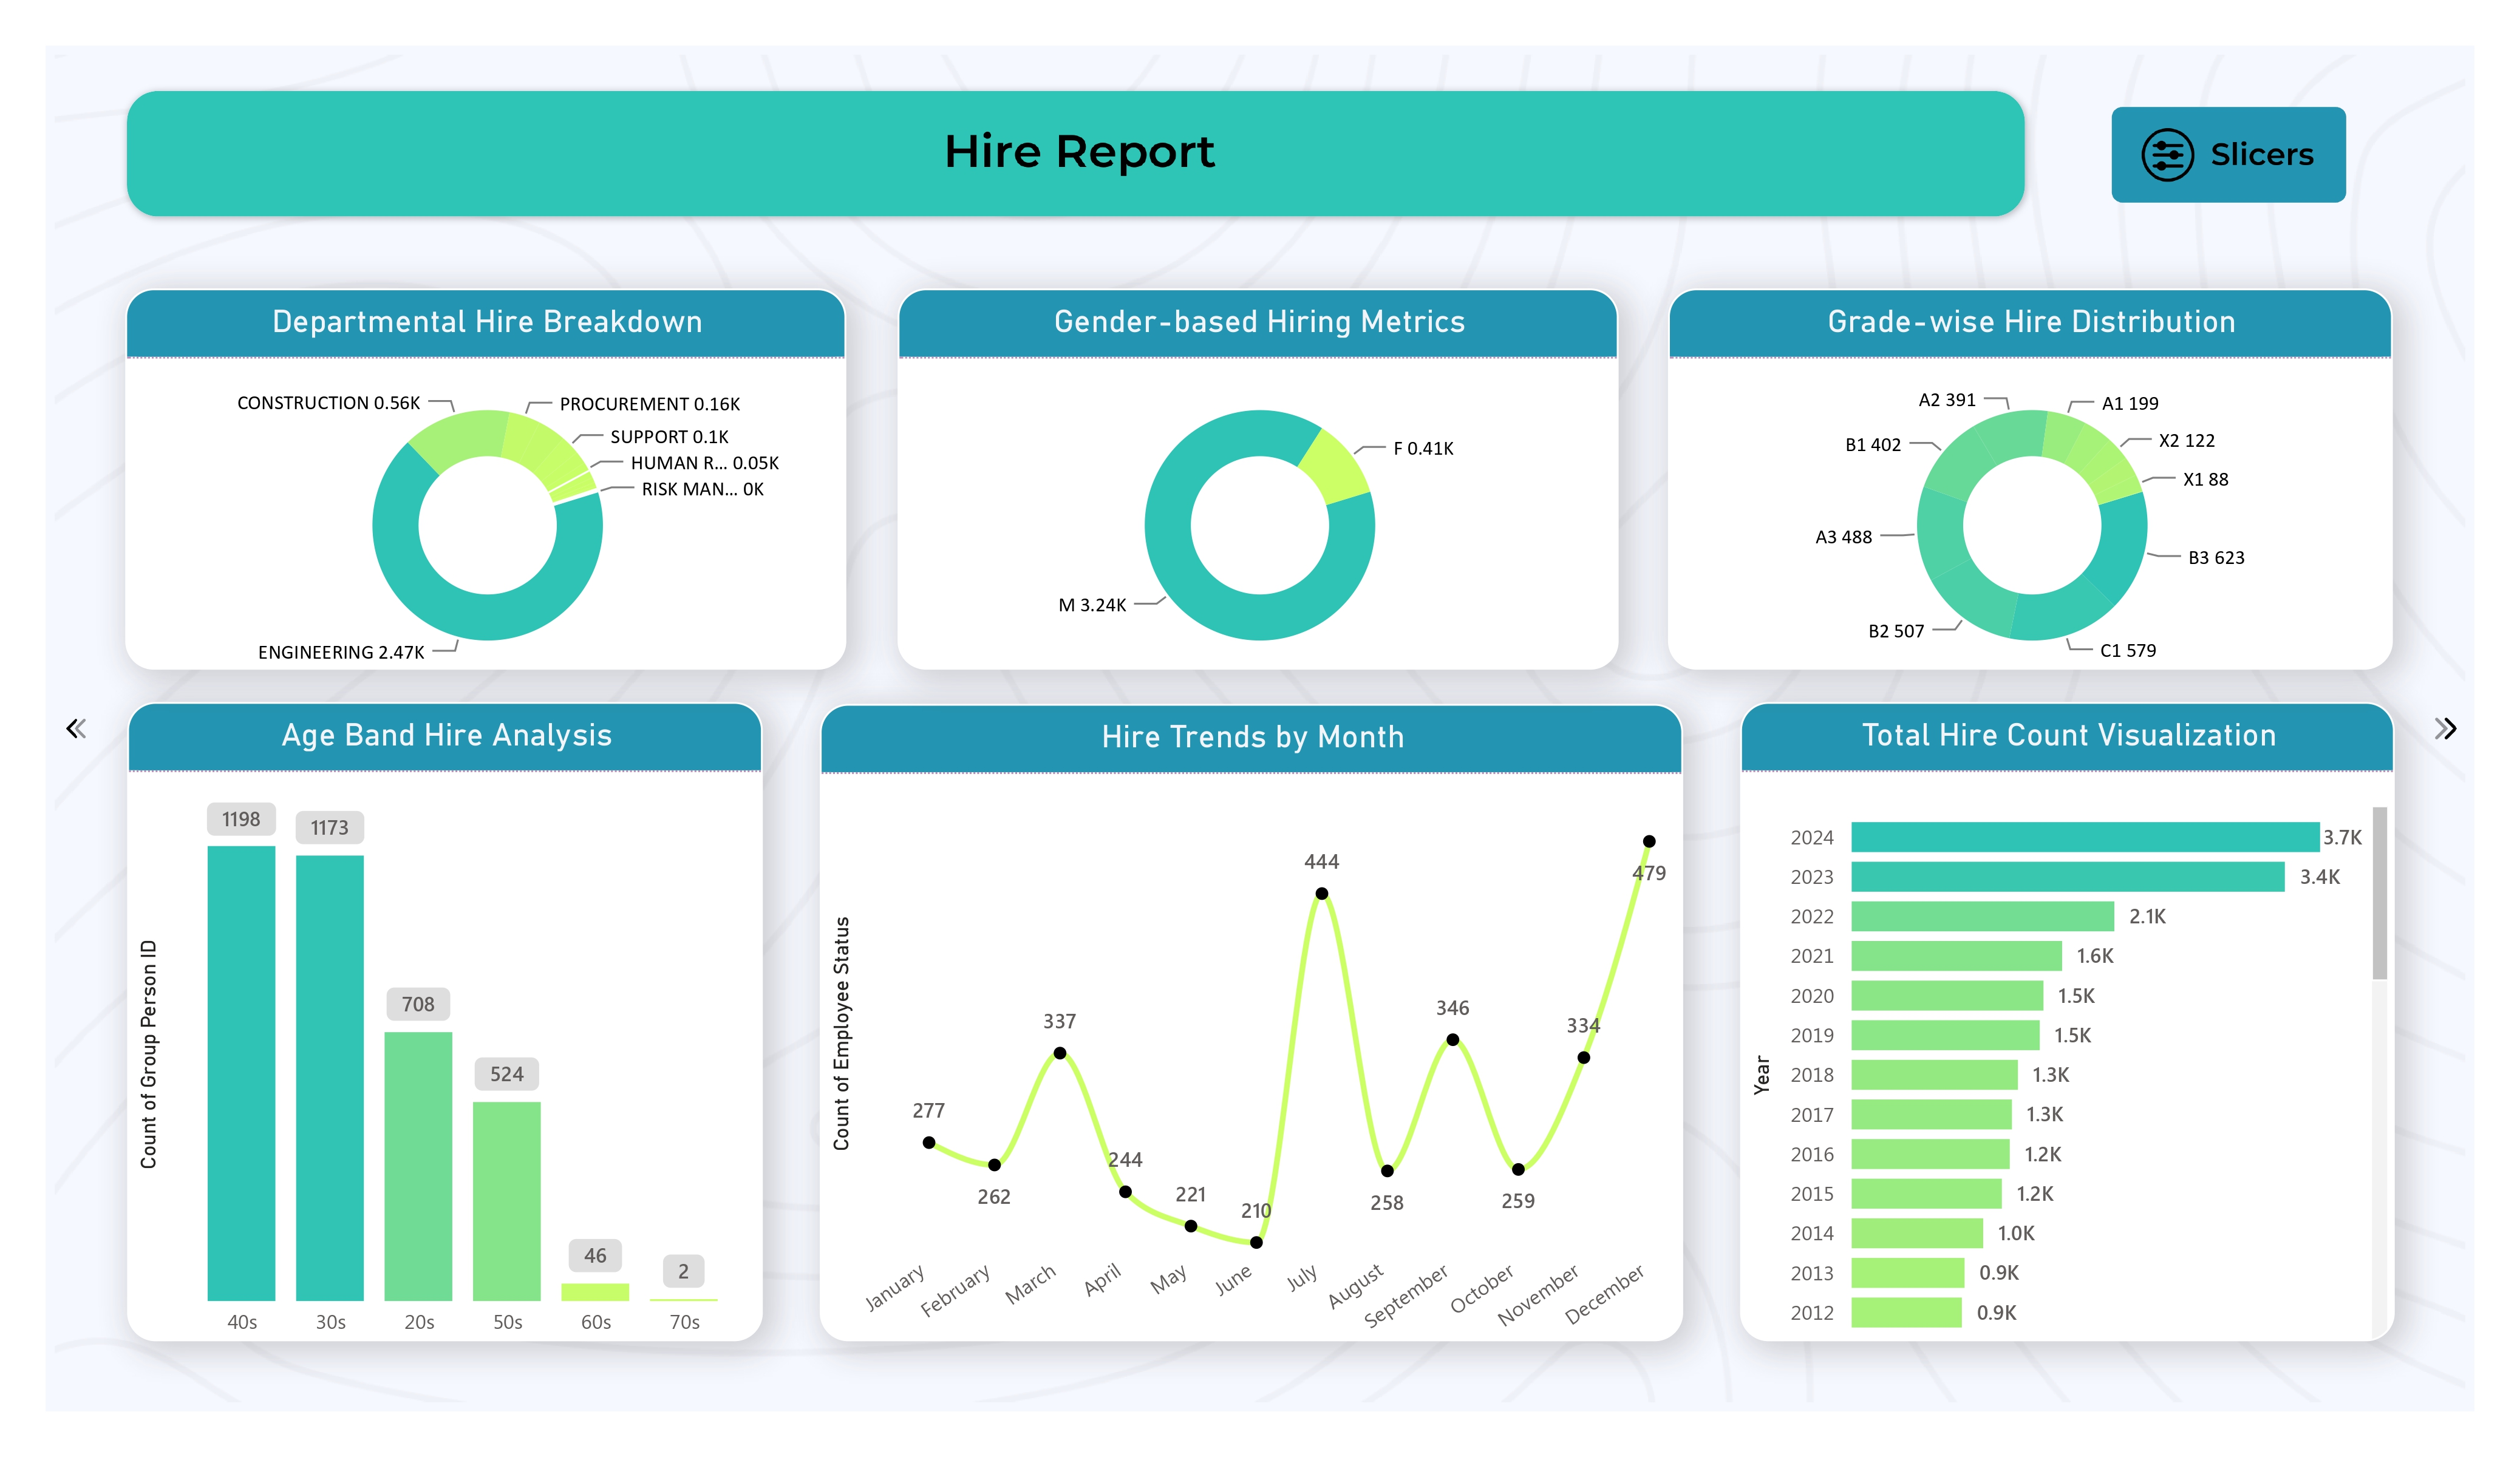

What the dashboard file says about the page in this screenshot:
{"tool":"powerbi","page":{"name":"Hire Report","canvas":[1280,720],"ordinal":1},"visuals":[{"type":"image","box":[0,0,1280,720],"z":0},{"type":"shape","box":[37.5,18.8,1010,76.2],"z":1000},{"type":"barChart","title":"Total Hire Count Visualization","fields":{"Category":["Ans table.Year"],"Y":["Sum(Ans table.Total Count)"]},"box":[892.5,346.2,345,336.2],"z":2000},{"type":"image","box":[311.6,35,465.2,41.8],"z":9000},{"type":"lineChart","title":"Hire Trends by Month","fields":{"Category":["Active 2024.Hire Date.Variation.Date Hierarchy.Month"],"Y":["CountNonNull(Active 2024.Employee Status)"]},"box":[408.3,346.7,454.2,335.8],"z":10000},{"type":"donutChart","title":"Grade-wise Hire Distribution","fields":{"Category":["Active 2024.Grade"],"Y":["Count(Active 2024.Group Person ID)"]},"box":[855.4,127.5,381.2,201.2],"z":17000},{"type":"clusteredColumnChart","title":"Age Band Hire Analysis","fields":{"Y":["Count(Active 2024.Group Person ID)"],"Category":["Active 2024.Age Group"]},"box":[42.5,346.2,335,336.2],"z":18000},{"type":"donutChart","title":"Gender-based Hiring Metrics","fields":{"Category":["Active 2024.Gender"],"Y":["Count(Active 2024.Group Person ID)"]},"box":[449.1,127.5,380,201.2],"z":19000},{"type":"donutChart","title":"Departmental Hire Breakdown","fields":{"Category":["Active 2024.Job Group"],"Y":["Count(Active 2024.Group Person ID)"]},"box":[41.6,127.5,380,201.2],"z":20000},{"type":"image","title":"page nav 2","box":[1250,338.9,30,41.1],"z":21000},{"type":"image","title":"page nav 1","box":[0,345.6,31.1,28.9],"z":21500},{"type":"image","title":"Slicer button","box":[1064.5,19.4,171.1,76.7],"z":22000}]}

Visuals, with their boxes in screenshot pixels (x1, y1, x2, y2):
image: rect(46, 46, 2474, 1411)
shape: rect(117, 81, 2033, 226)
"Total Hire Count Visualization" barChart: rect(1739, 702, 2394, 1340)
image: rect(637, 112, 1519, 191)
"Hire Trends by Month" lineChart: rect(820, 703, 1682, 1340)
"Grade-wise Hire Distribution" donutChart: rect(1669, 287, 2392, 669)
"Age Band Hire Analysis" clusteredColumnChart: rect(126, 702, 762, 1340)
"Gender-based Hiring Metrics" donutChart: rect(897, 287, 1619, 669)
"Departmental Hire Breakdown" donutChart: rect(124, 287, 845, 669)
"page nav 2" image: rect(2417, 688, 2474, 766)
"page nav 1" image: rect(46, 701, 104, 756)
"Slicer button" image: rect(2066, 83, 2390, 228)
